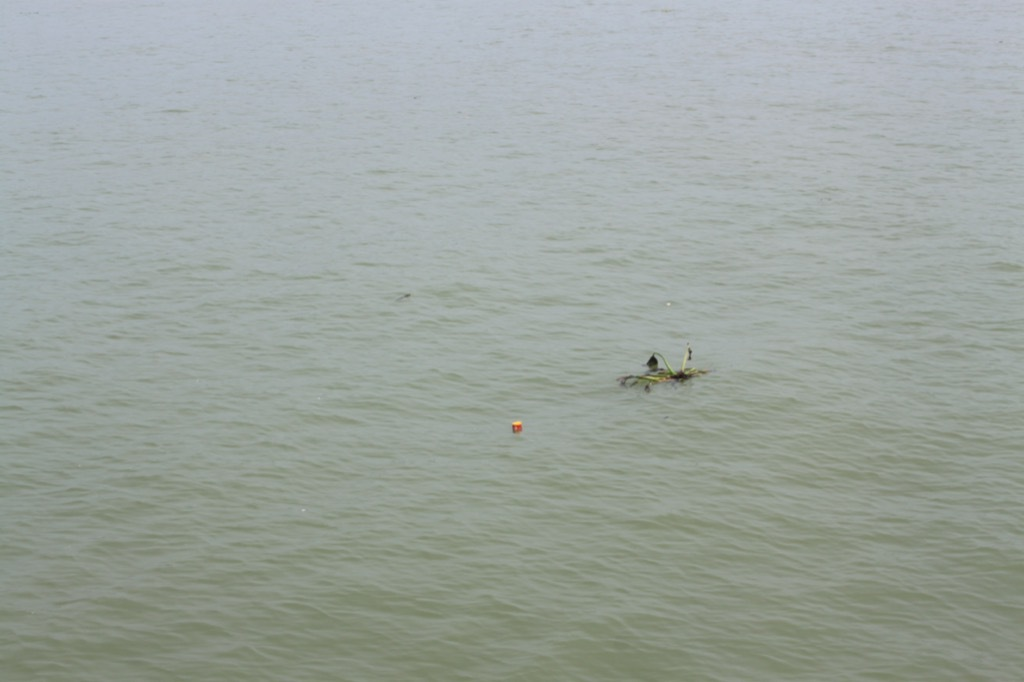organic: (604, 335, 714, 409), (382, 287, 419, 310)
plastic: (504, 412, 531, 444), (298, 505, 310, 518), (664, 297, 675, 310)
